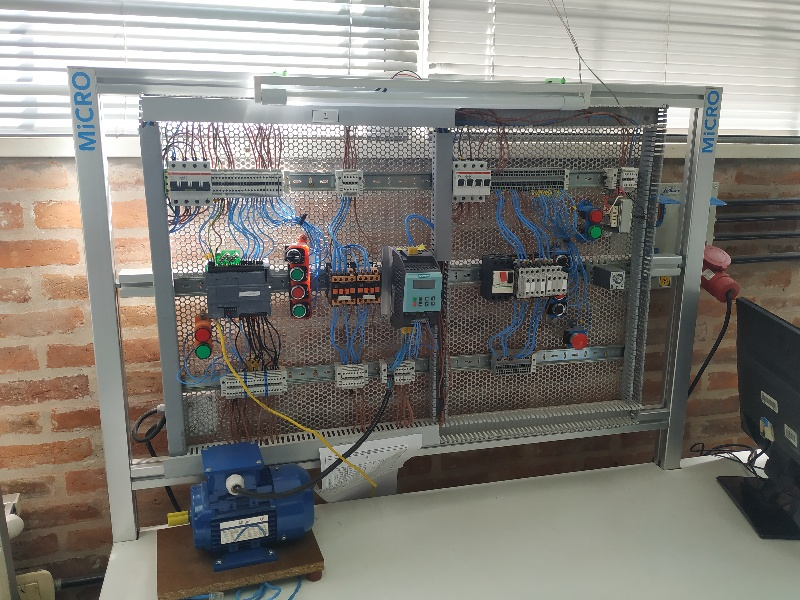Tablero 1: (152, 114, 644, 420)
